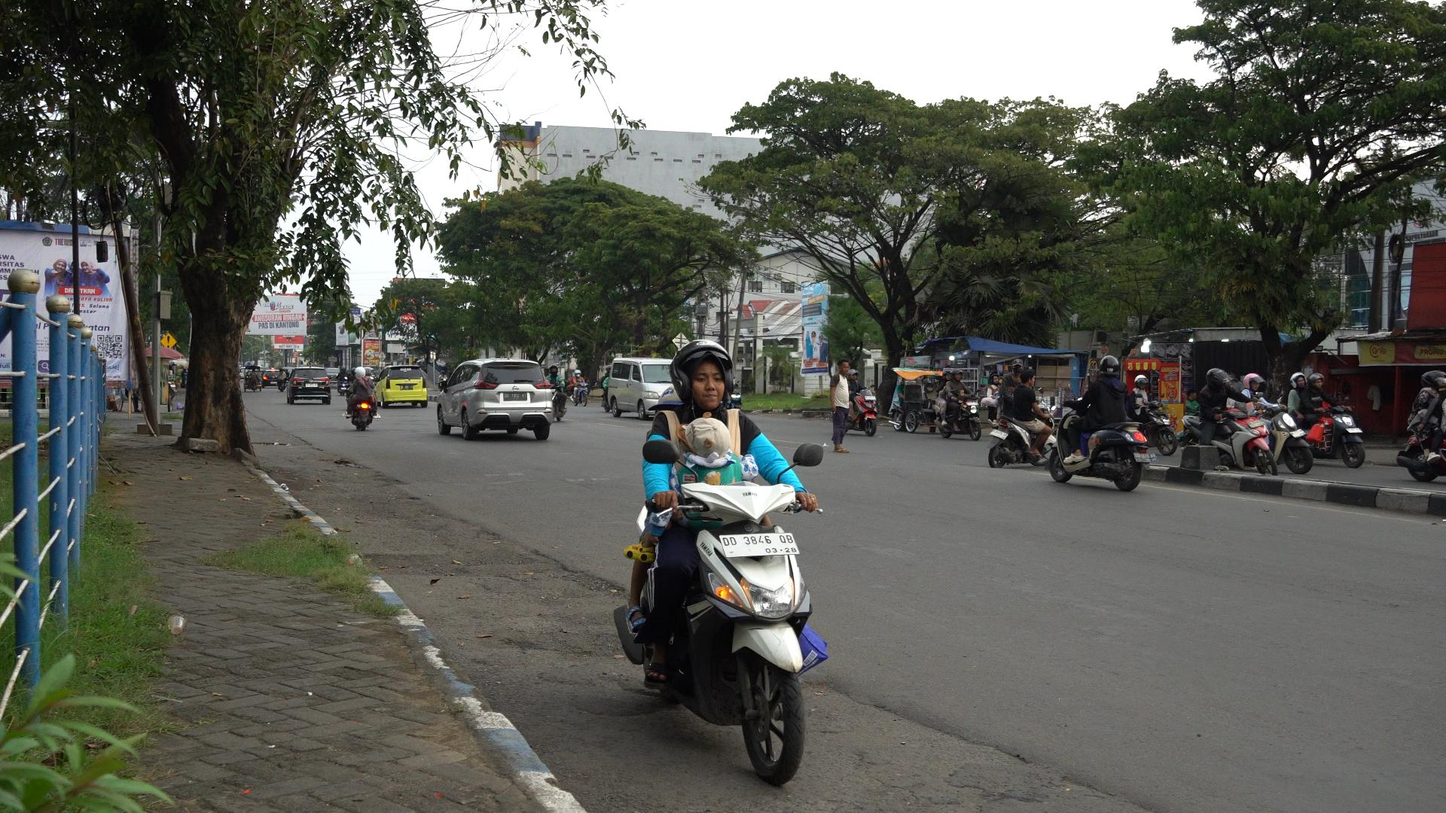number-plate: (720, 532, 799, 559)
